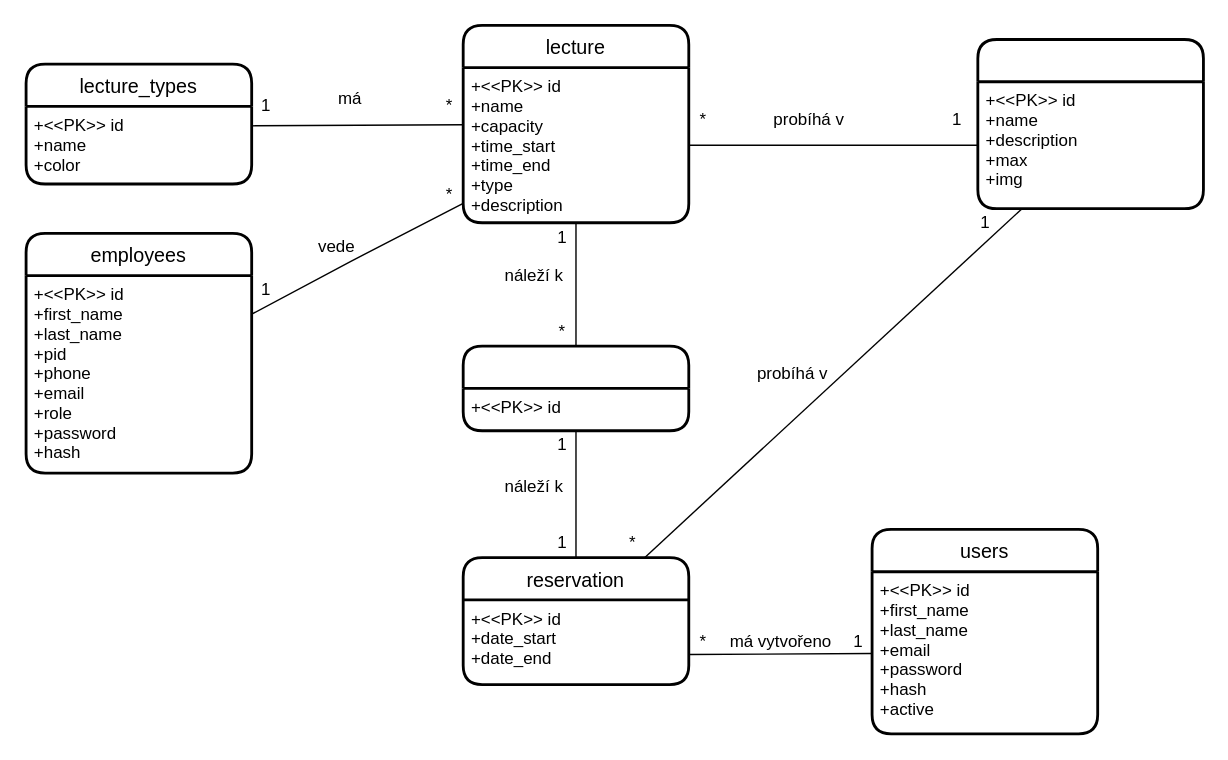
Image size: 1228x760. Some labels were removed from this diagram. The shapes that lost their labels are listed below. From the top down, each one's box as (x1, y1, x2, y2) in pixels, then its label:
(976, 37, 1204, 209): rooms
(461, 344, 689, 431): reservation_lecture
